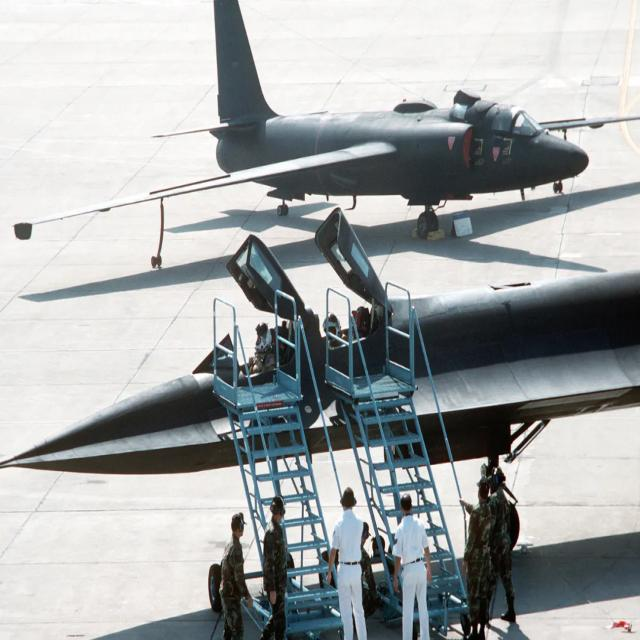MIL_Plane: (0, 205, 640, 550), (12, 1, 640, 268)
